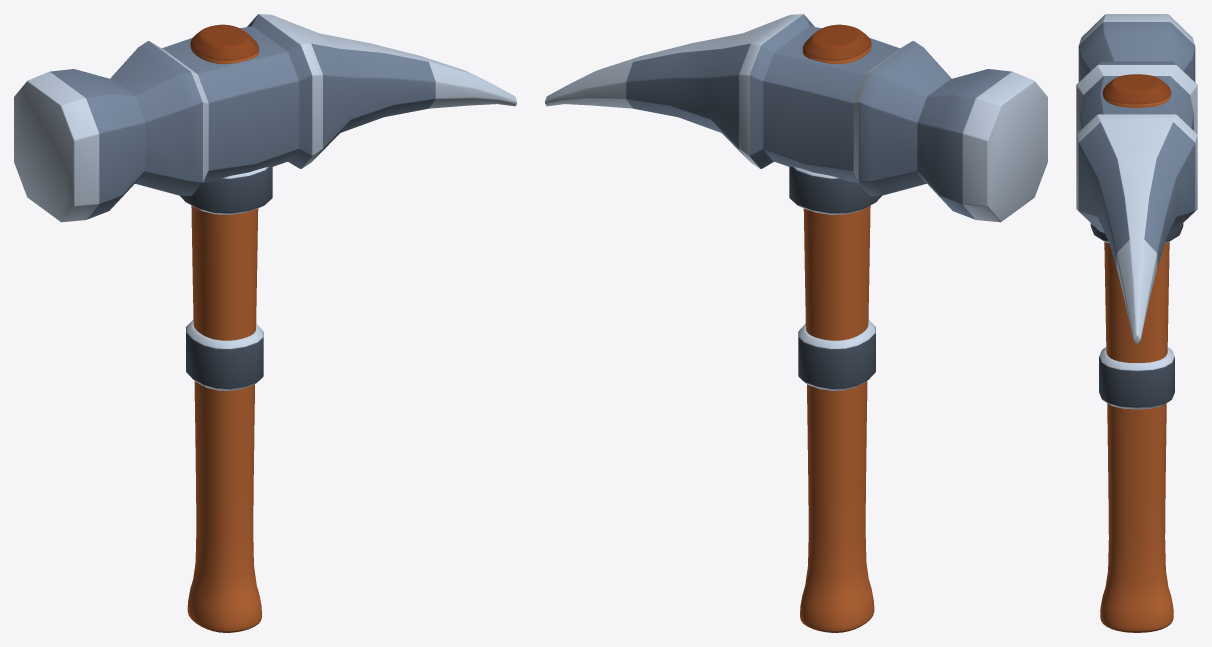
File: Ice_Pickaxe.glb
3 renders of one model, left to right at view 1: azimuth 30°, elevation 25°; view 2: azimuth 150°, elevation 25°; view 3: azimuth 270°, elevation 25°, orthographic. The views are drawn at different scales.
Visible parts, largest first — view 1: Pickaxe_Head, Pickaxe_Handle, Pickaxe_Grip_Collar, Pickaxe_Head_Collar; view 2: Pickaxe_Head, Pickaxe_Handle, Pickaxe_Grip_Collar, Pickaxe_Head_Collar; view 3: Pickaxe_Head, Pickaxe_Handle, Pickaxe_Grip_Collar, Pickaxe_Head_Collar.
Part boxes in pixels (<box>): Pickaxe_Head: <box>14,14,516,222</box>; Pickaxe_Handle: <box>187,24,261,632</box>; Pickaxe_Grip_Collar: <box>186,320,263,390</box>; Pickaxe_Head_Collar: <box>179,167,272,214</box>; Pickaxe_Head: <box>545,14,1047,222</box>; Pickaxe_Handle: <box>800,24,874,632</box>; Pickaxe_Grip_Collar: <box>798,320,875,390</box>; Pickaxe_Head_Collar: <box>789,167,882,214</box>; Pickaxe_Head: <box>1076,14,1197,343</box>; Pickaxe_Handle: <box>1100,74,1173,632</box>; Pickaxe_Grip_Collar: <box>1099,347,1174,409</box>; Pickaxe_Head_Collar: <box>1090,223,1183,242</box>.
Bounding box in the file's own units: 0.396 × 0.4718 × 0.0957.
